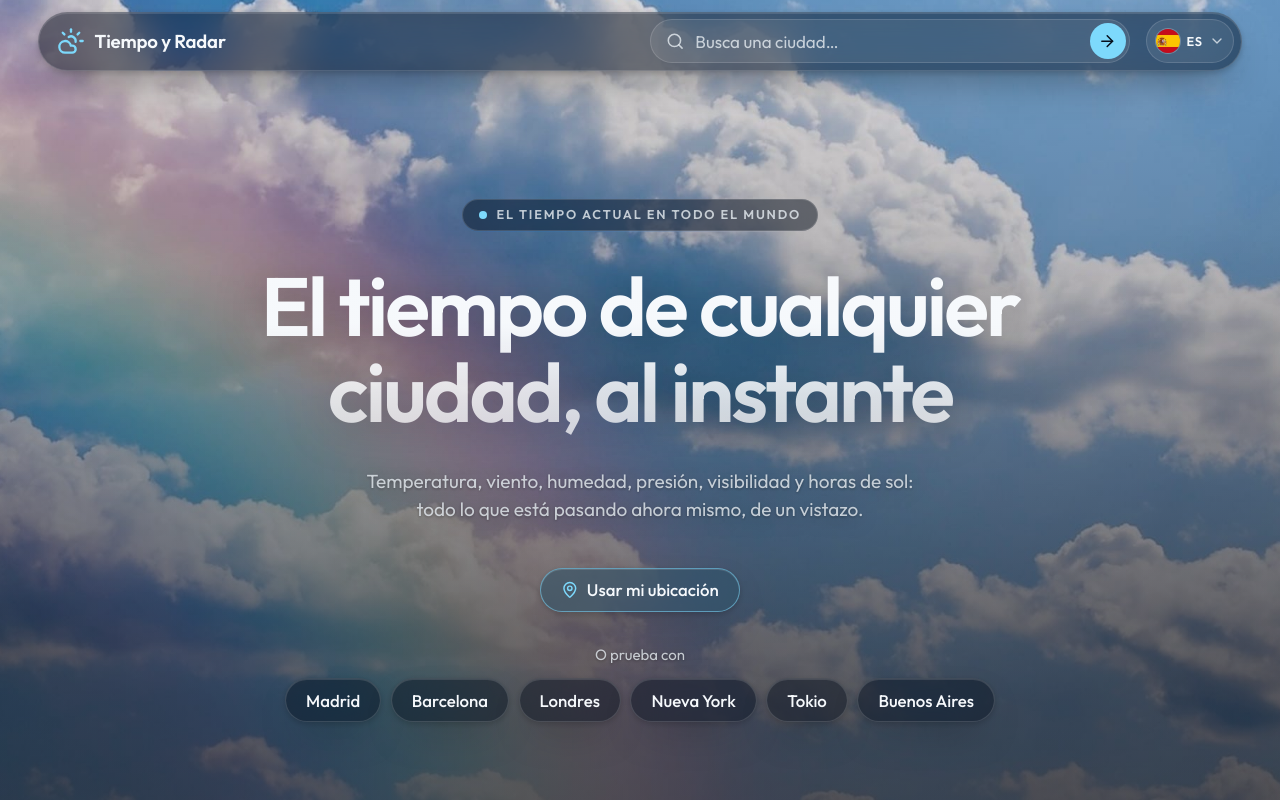
Test: shows a notice when the request fails
This screenshot has width=1280, height=800.
Type "Madrid" into the dropdown labelled "ciudad". click: (890, 41)
box: [650,19,1130,63]
Then press Enter
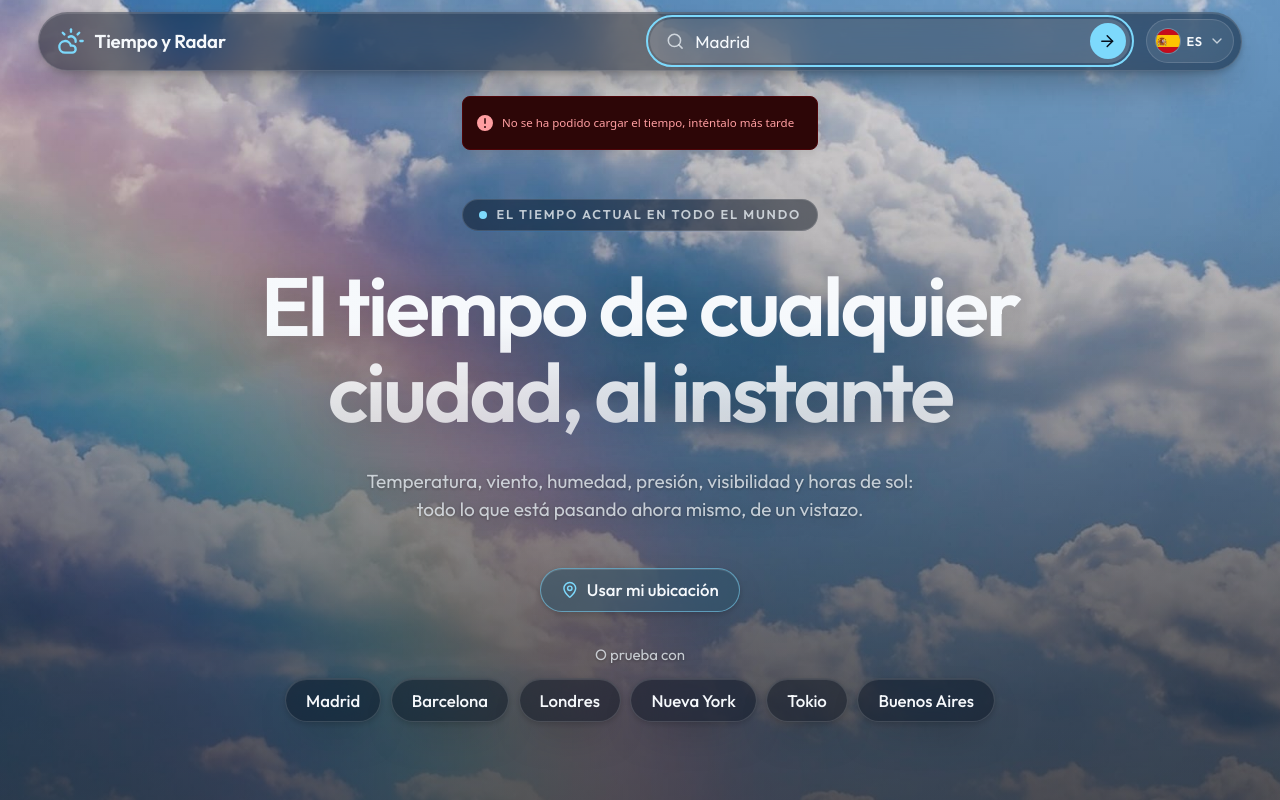
expect the text "No se ha podido cargar el tiempo, inténtalo más tarde" is shown: met, box [502,113,794,132]
